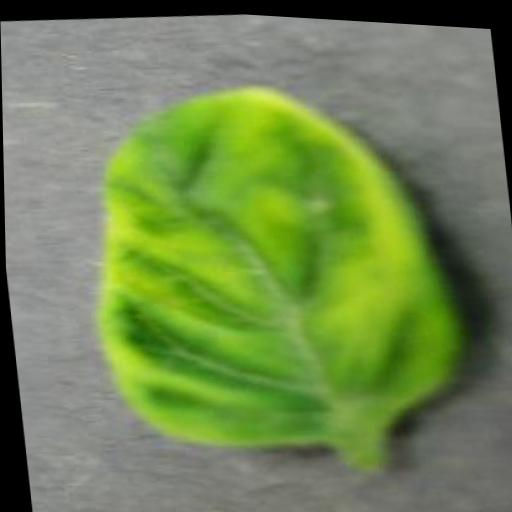Yellow Leaf Curl Virus: (71, 56, 478, 468)
